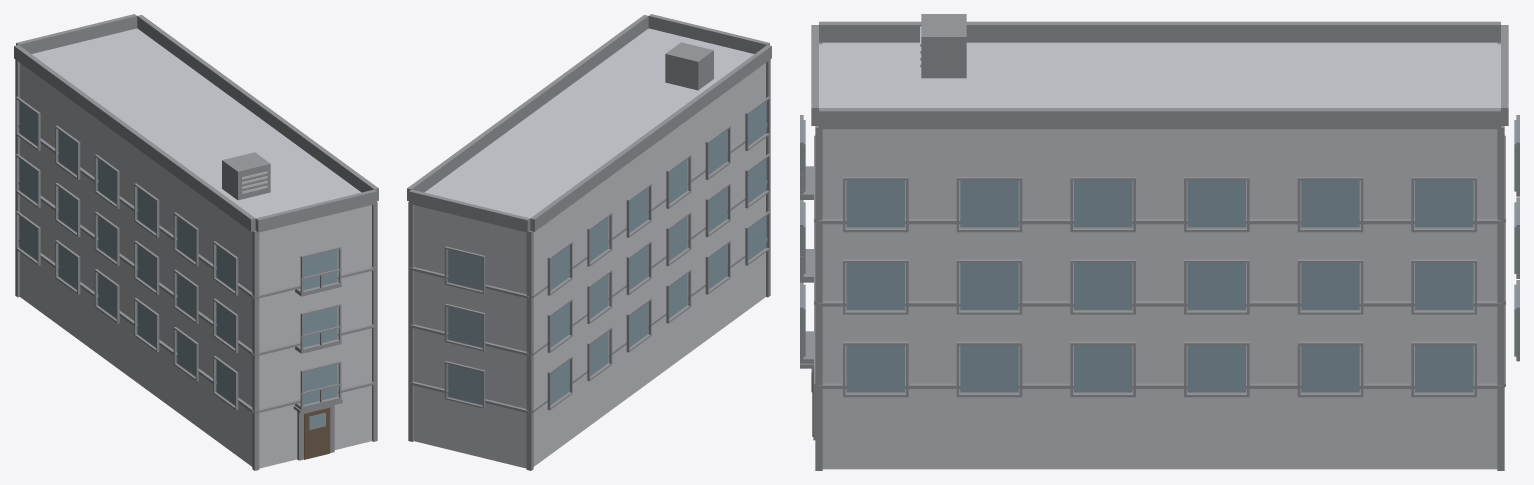
The model's file is lot_1x3.glb.
3 renders of one model, left to right at view 1: azimuth 30°, elevation 25°; view 2: azimuth 150°, elevation 25°; view 3: azimuth 270°, elevation 25°, orthographic. The views are drawn at different scales.
Parts seen in each view (by area): view 1: lot_1x3; view 2: lot_1x3; view 3: lot_1x3.
Part boxes in pixels (x1,y1,x2,y2): lot_1x3: (14, 14, 378, 470); lot_1x3: (407, 14, 771, 470); lot_1x3: (800, 14, 1519, 470).
Bounding box in the file's own units: 7.74 × 14 × 23.74.
